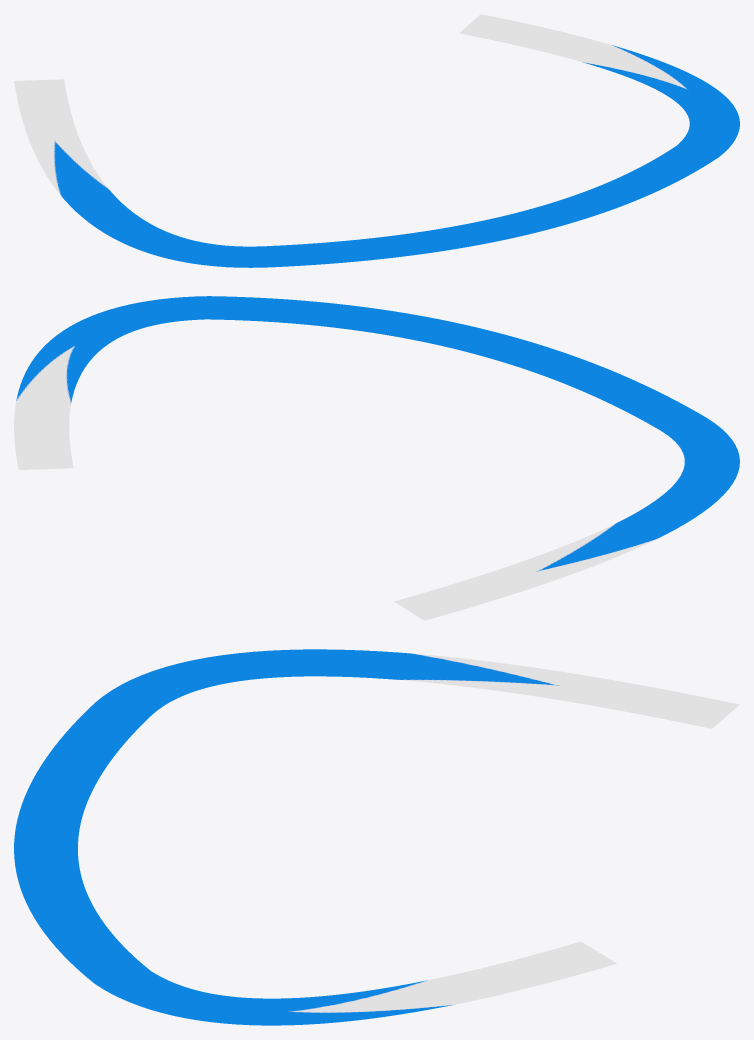
File: Path.fbx
3 views of the same model, one above another, from view 1: azimuth 30°, elevation 25°; view 2: azimuth 150°, elevation 25°; view 3: azimuth 270°, elevation 25° (orthographic). The views are drawn at different scales.
Parts seen in each view (by area): view 1: Path; view 2: Path; view 3: Path.
Part boxes in pixels (box(x1,y1,x2,y2)): Path: box(14, 14, 739, 267); Path: box(14, 296, 739, 620); Path: box(14, 649, 739, 1025).
Size of the model in its own units: 697 by 7.63e-06 by 568.
